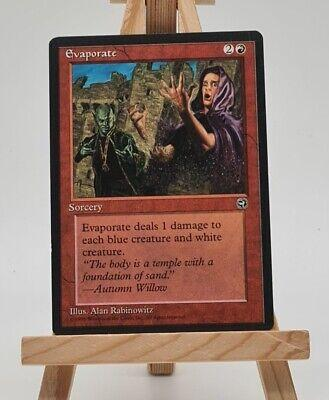card-2UtV: (49, 31, 274, 335)
